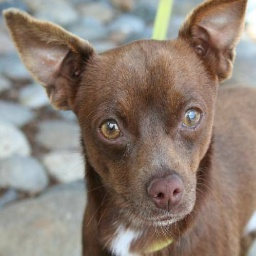dog: (3, 6, 256, 256)
